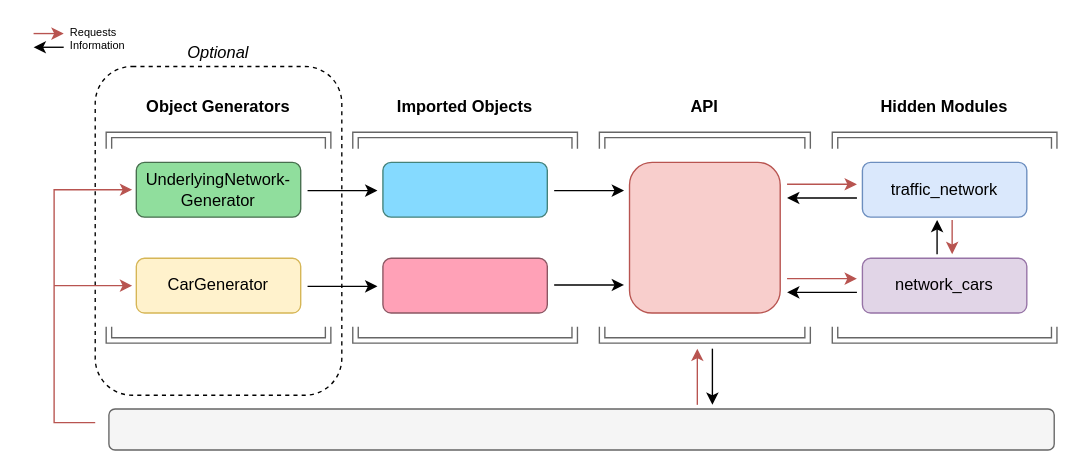
This 1081x474 diagram has some shape labels left out. Here are the shapes that lost their labels. From the top down, the centre of each, then its label:
At pixel 464 189: "object: Network".
At pixel 704 237: "Traffic".
At pixel 464 285: "object: Car".
At pixel 581 429: "User / User's Program".
